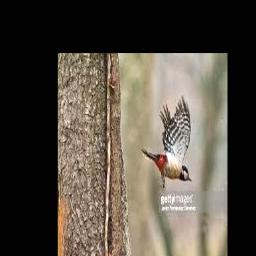Woodpecker: (141, 95, 192, 189)
